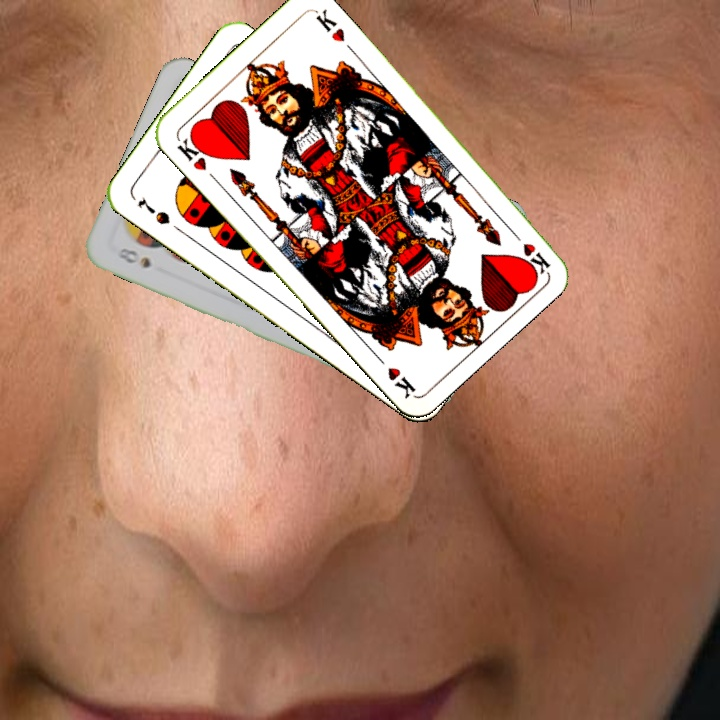HK: (505, 224, 552, 275), (172, 130, 213, 173)
S7: (134, 192, 173, 228)
S8: (113, 244, 154, 271)
